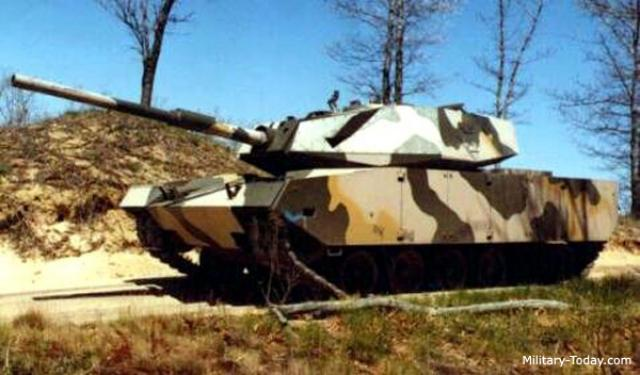tank: (133, 103, 617, 274)
